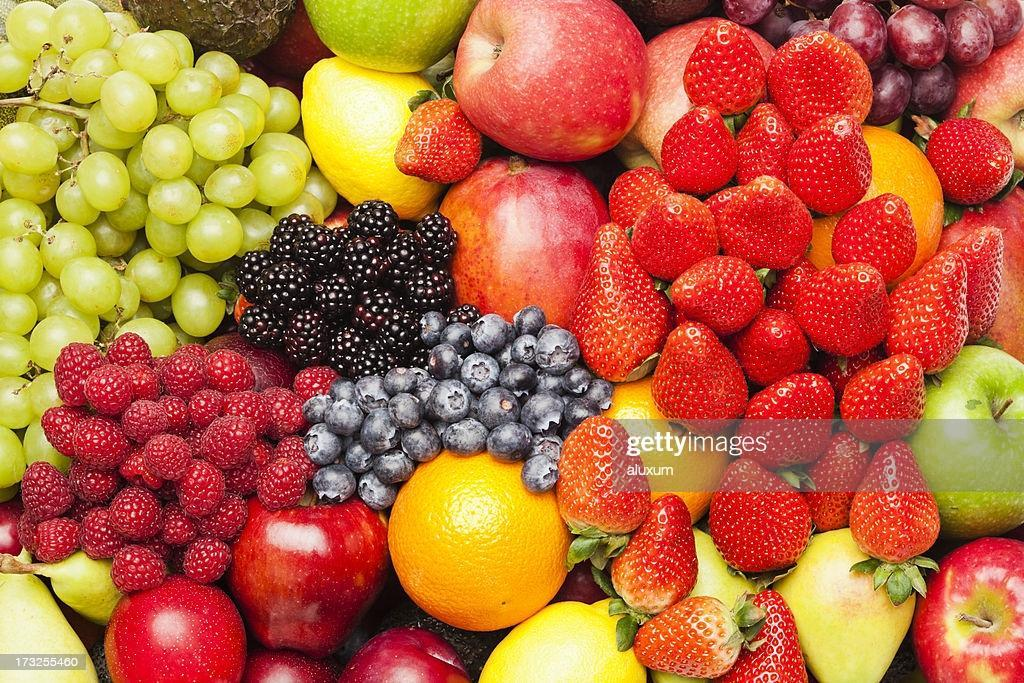apple: (454, 1, 649, 164)
